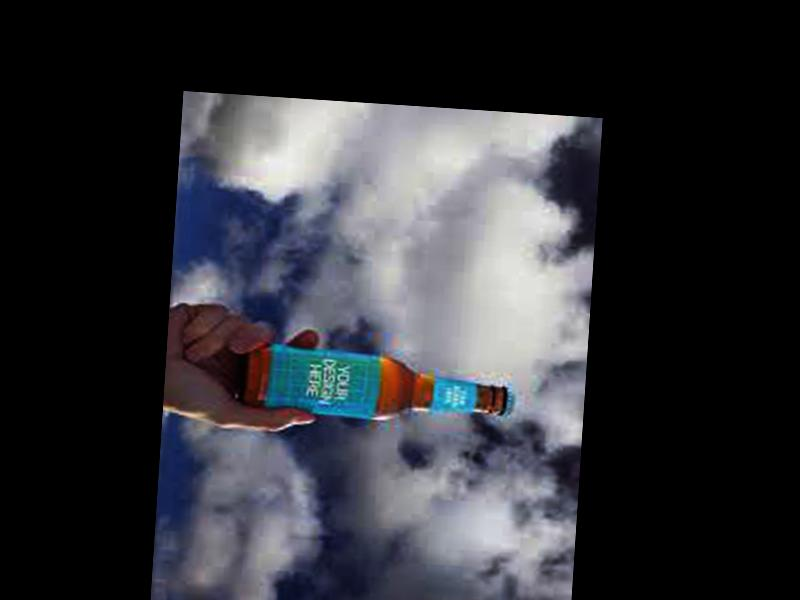Beer: (238, 348, 514, 428)
